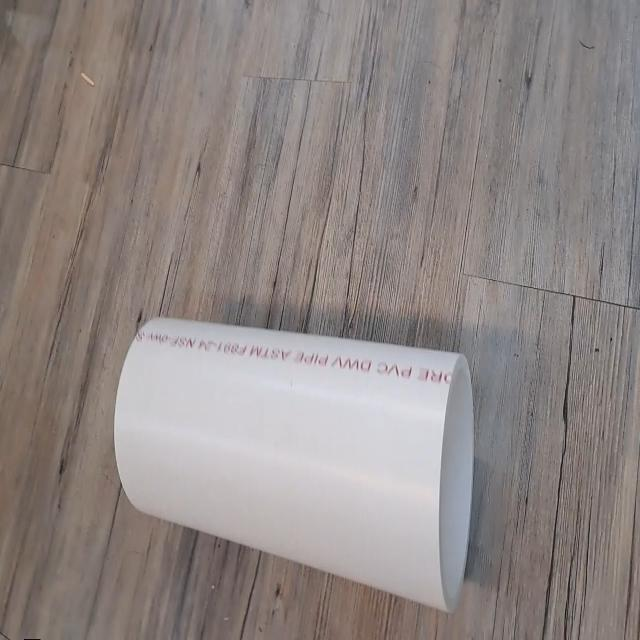CORAL: (107, 310, 476, 618)
